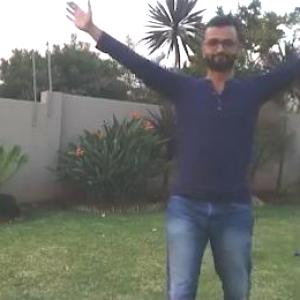takeoff: (105, 3, 299, 299)
